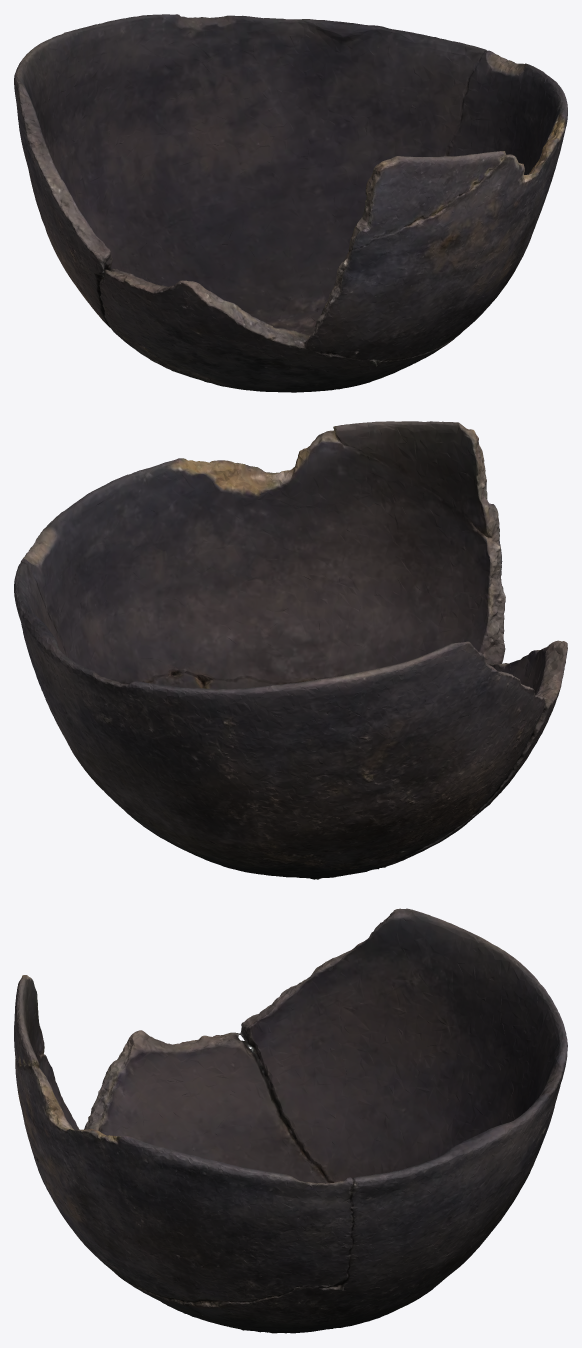
Rendered from Objeto_02-b (2).glb.
3 views of the same model, one above another, from view 1: azimuth 30°, elevation 25°; view 2: azimuth 150°, elevation 25°; view 3: azimuth 270°, elevation 25° (orthographic). The views are drawn at different scales.
Visible parts, largest first — view 1: Mesh_0; view 2: Mesh_0; view 3: Mesh_0.
Part boxes in pixels (left/top/right/bottom): Mesh_0: left=14, top=14, right=567, bottom=392; Mesh_0: left=14, top=421, right=567, bottom=879; Mesh_0: left=14, top=908, right=567, bottom=1333.
Bounding box in the file's own units: 0.2709 × 0.1772 × 0.2746.
Materials: 1 (1 with a texture image).
